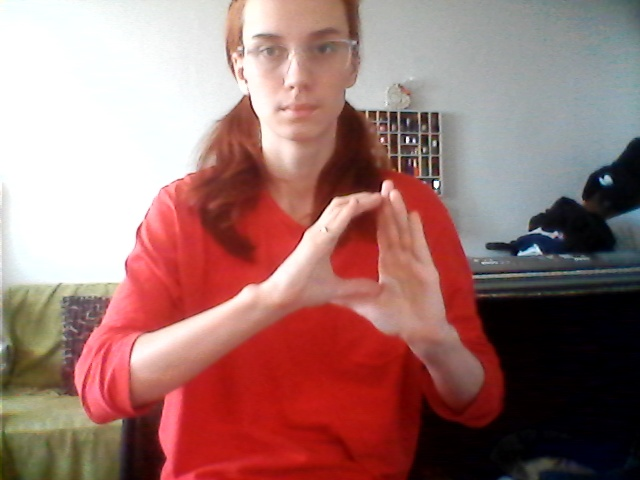d: (281, 174, 451, 350)
